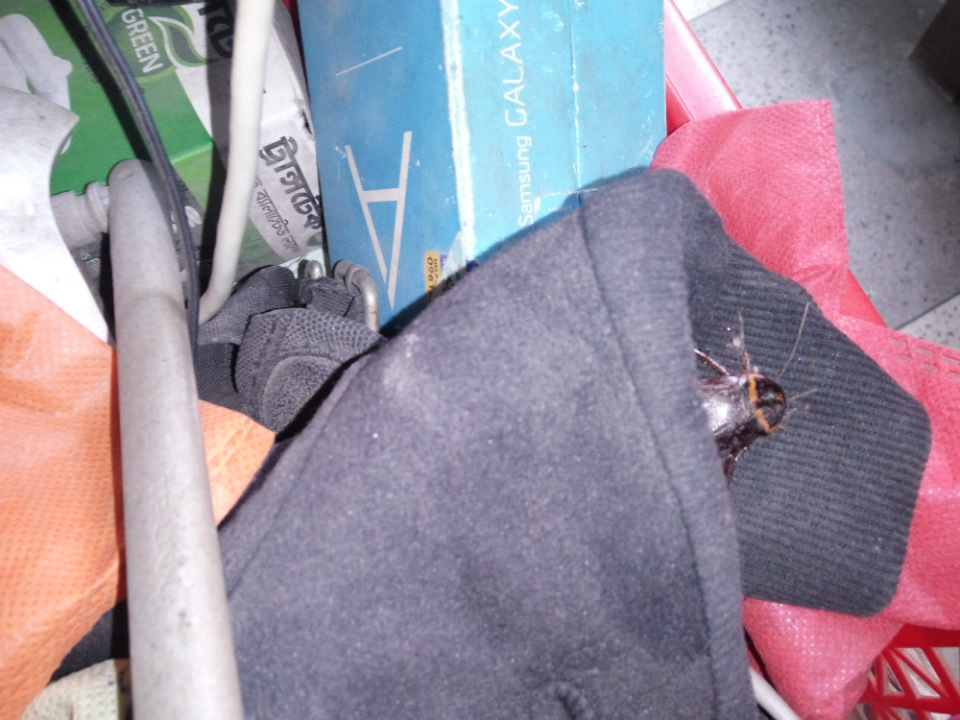cockroach: (697, 325, 867, 484)
